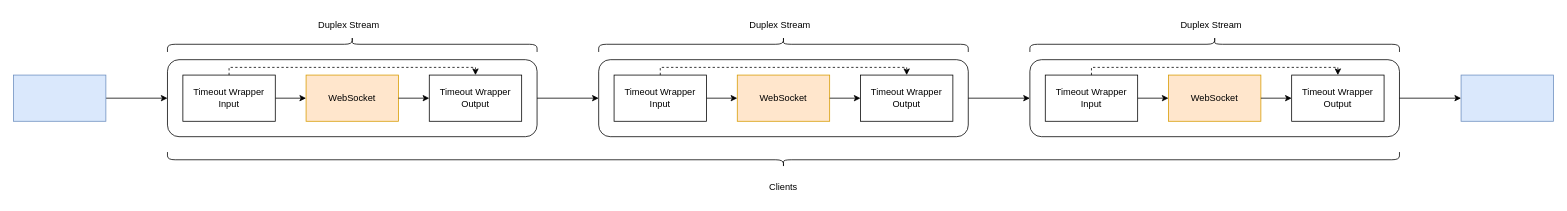
The diagram is 1567 pixels wide and 211 high, and some of its shapes have lost their labels. Here are the shapes that lost their labels. From the top down, the centre of each, then its label:
the point at 59,97: Input
the point at 1506,97: Output
